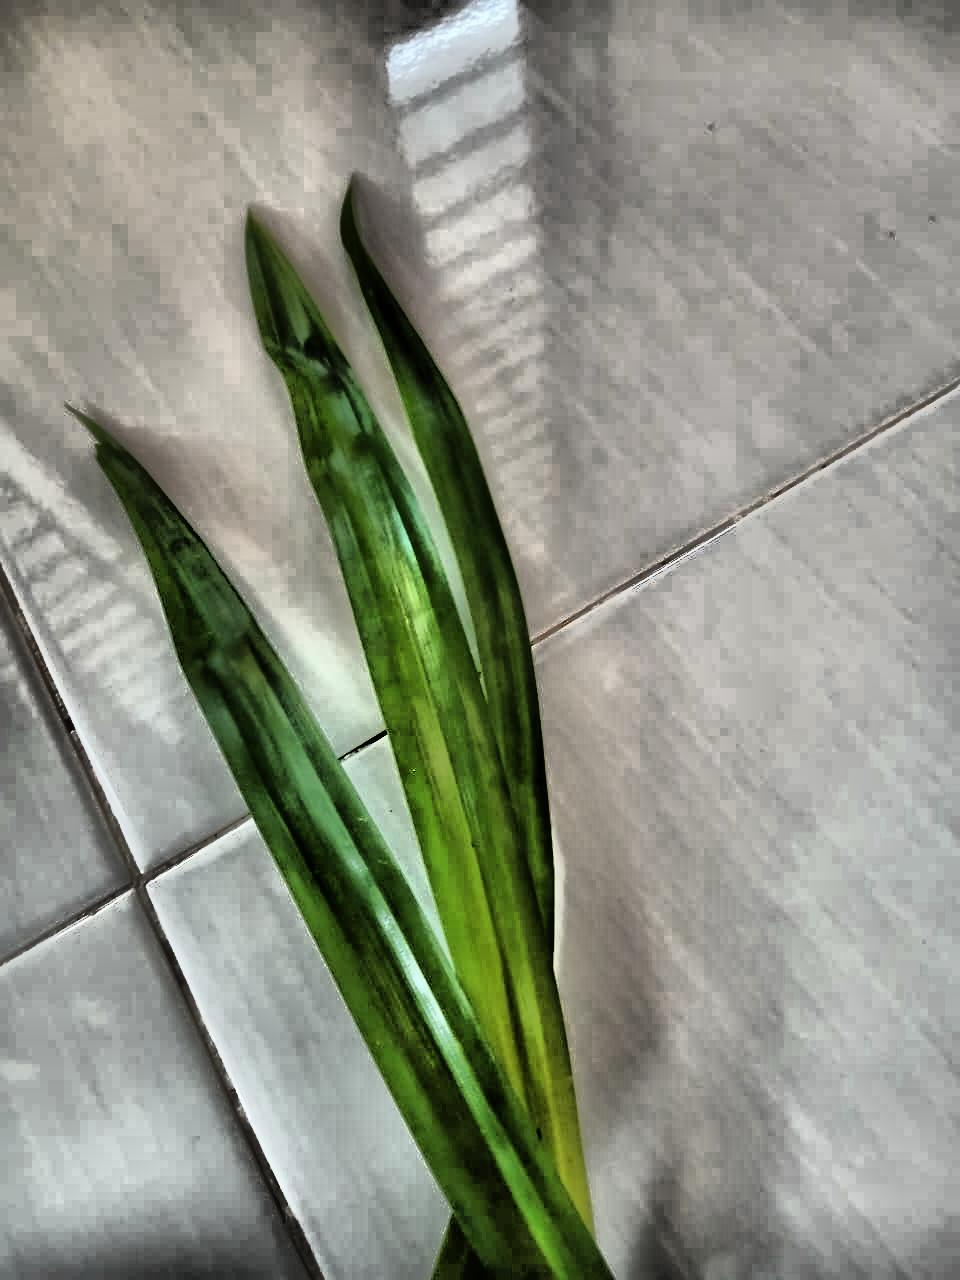daun pandan: (79, 186, 613, 1279)
